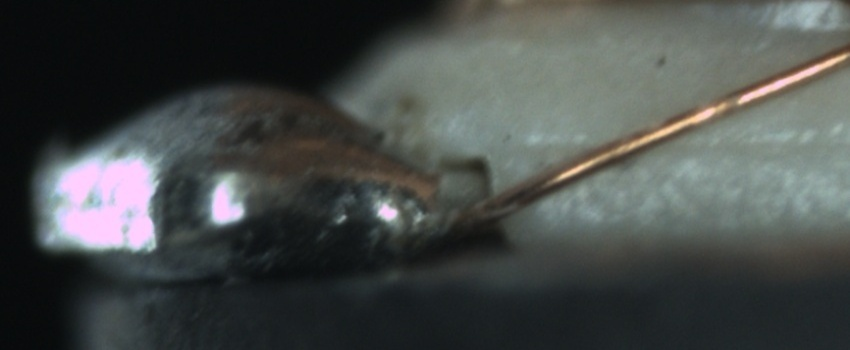DL: (540, 116, 850, 179)
